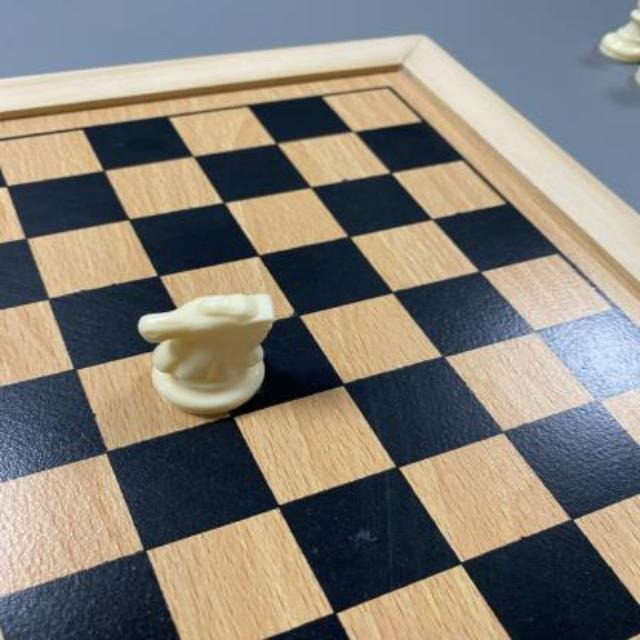white-knight: (137, 293, 277, 417)
